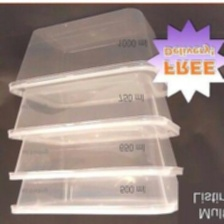plastic_box: (2, 2, 180, 113), (3, 65, 185, 150), (3, 120, 188, 185), (4, 168, 184, 221)
